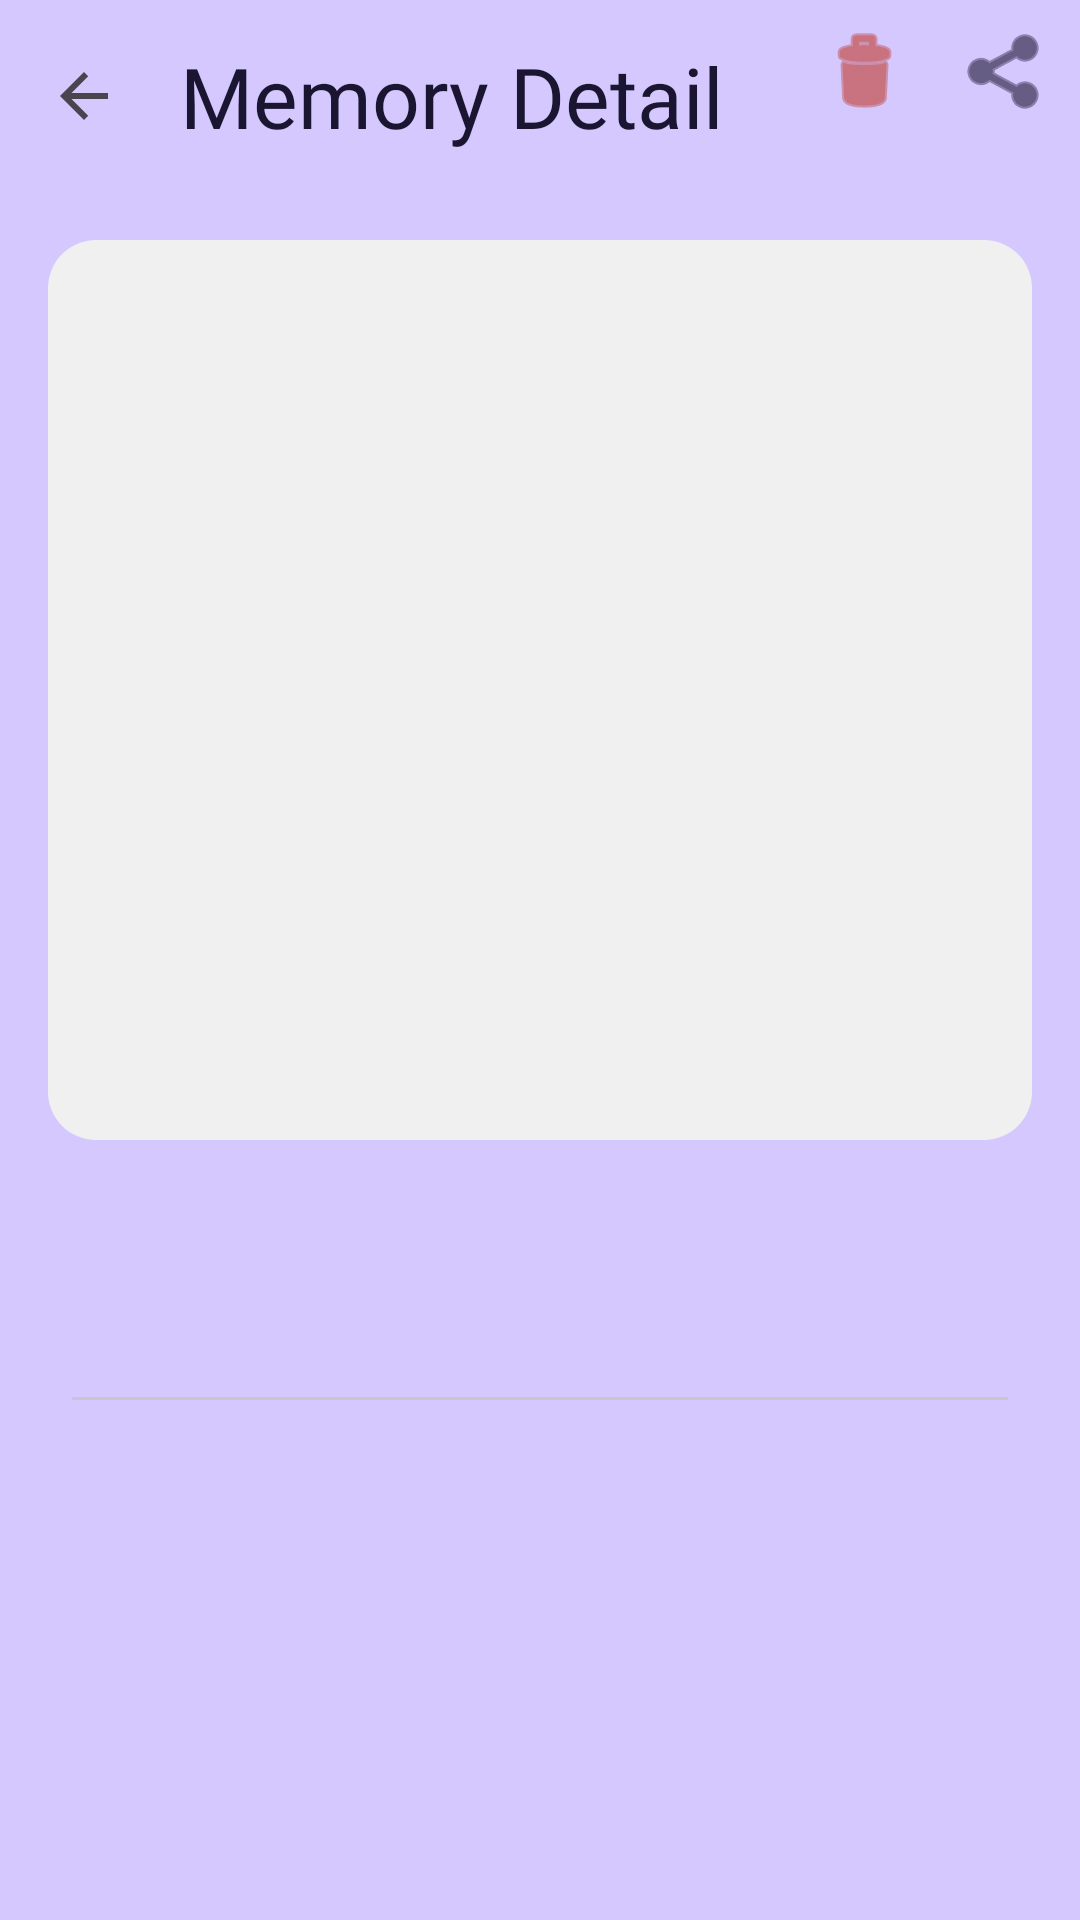

Where to tap for icons on this 1080w x 1920h app screen, as (x=x, y=y):
delete: (x=864, y=70)
share: (x=1003, y=71)
